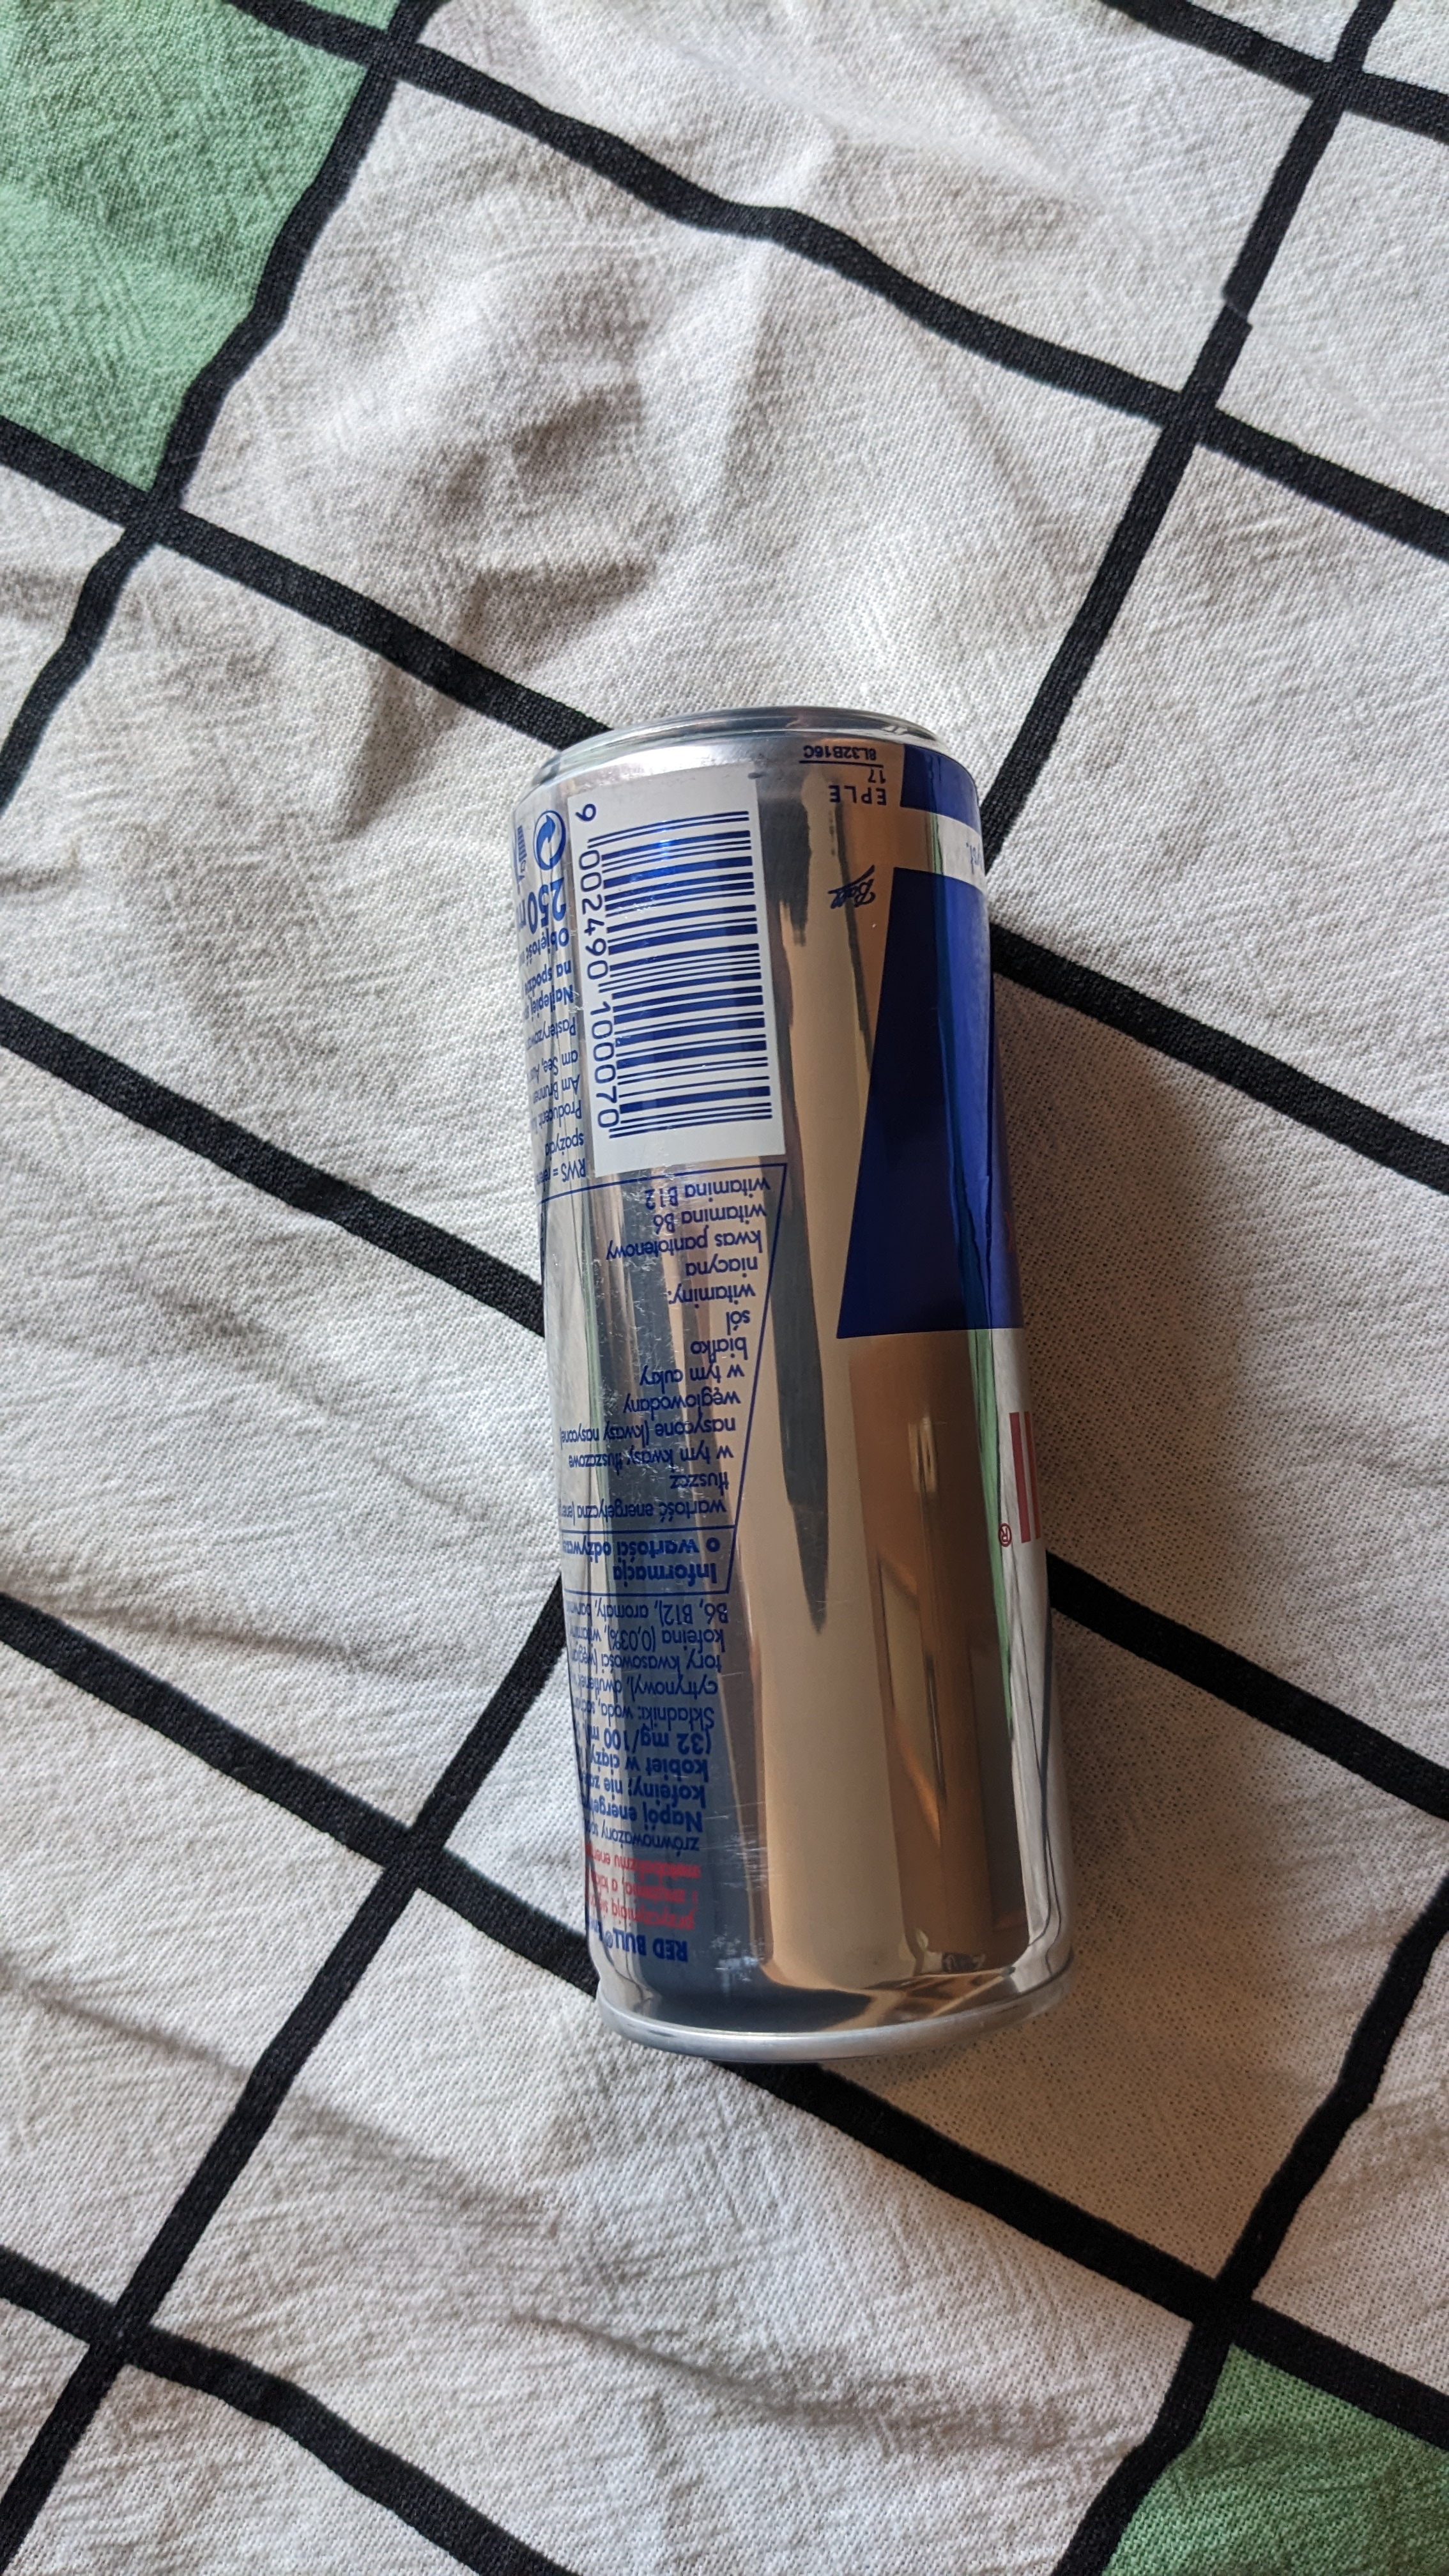red-bull: (483, 695, 1118, 2084)
